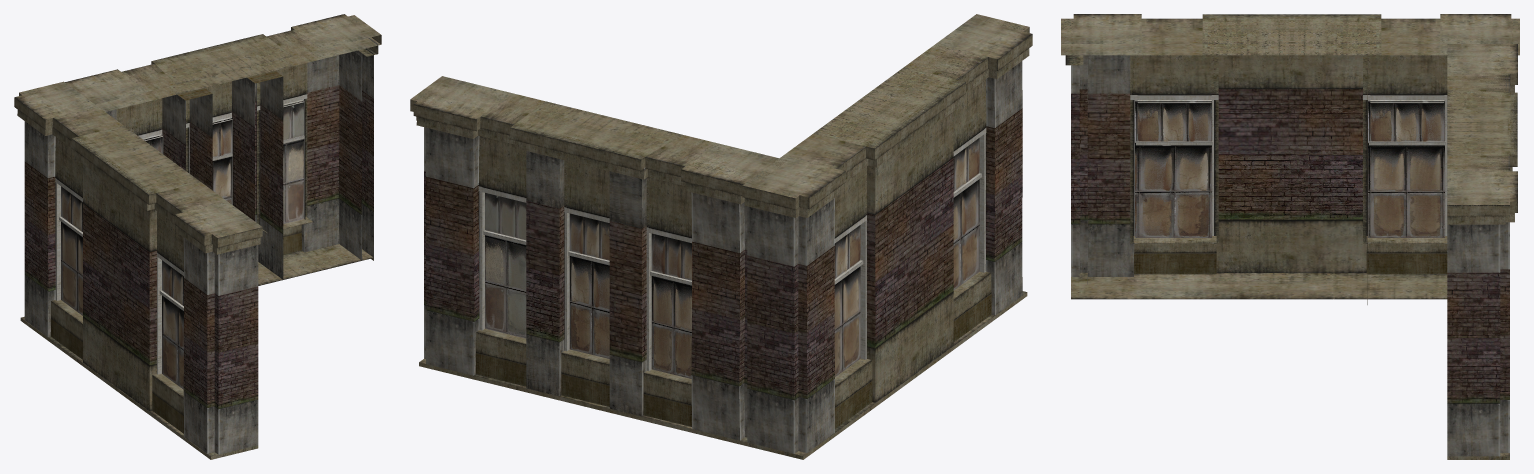
File: Corner_Building_Part_03_Tile.fbx
3 views of the same model, side by side, from view 1: azimuth 30°, elevation 25°; view 2: azimuth 150°, elevation 25°; view 3: azimuth 270°, elevation 25° (orthographic). The views are drawn at different scales.
Parts seen in each view (by area): view 1: Corner_Building_Part_03_Tile; view 2: Corner_Building_Part_03_Tile; view 3: Corner_Building_Part_03_Tile.
Boxes of the visible parts, bbox=[...] form: Corner_Building_Part_03_Tile: bbox=[14, 14, 381, 459]; Corner_Building_Part_03_Tile: bbox=[410, 14, 1032, 459]; Corner_Building_Part_03_Tile: bbox=[1061, 14, 1519, 459].
Size of the model in its own units: 721 by 456 by 732.
